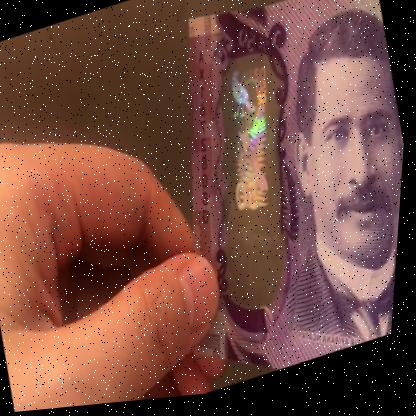50F: (195, 57, 324, 307)
